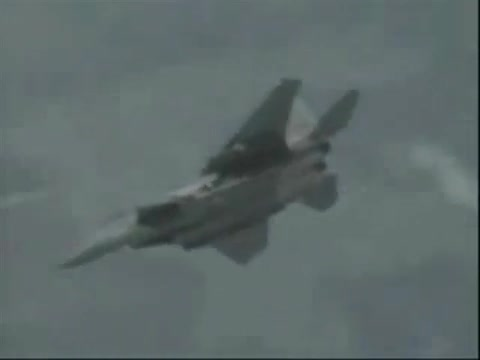aeroplane: (58, 80, 361, 274)
